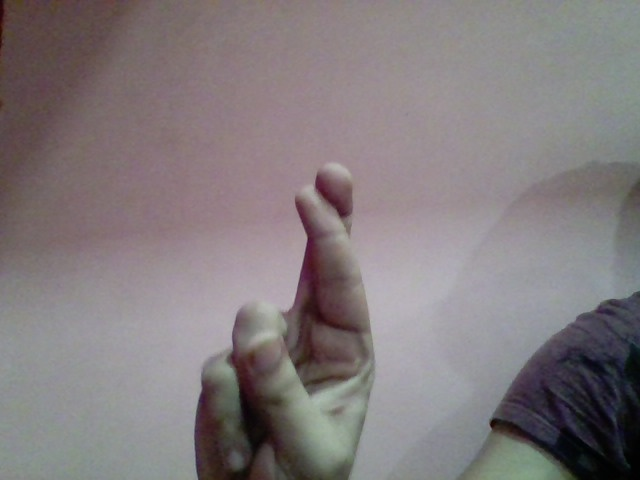r: (183, 154, 393, 480)
